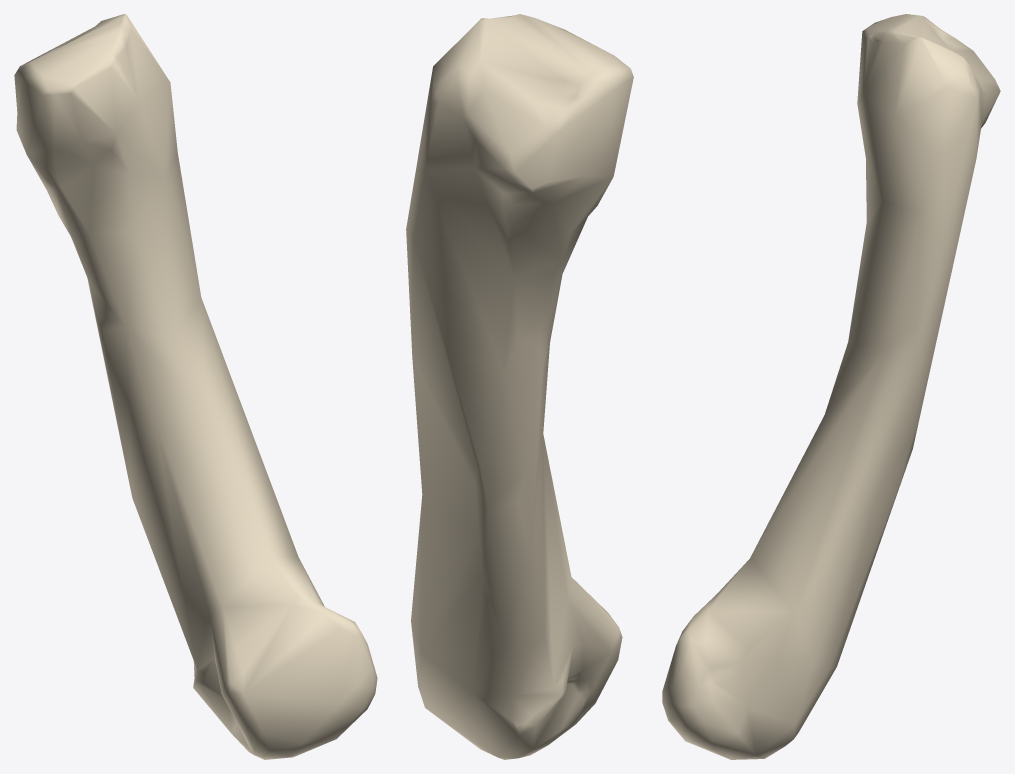
Rendered from fifth-metacarpal-bone-r.glb.
The picture shows the model from 3 angles, left to right: view 1: azimuth 30°, elevation 25°; view 2: azimuth 150°, elevation 25°; view 3: azimuth 270°, elevation 25°; orthographic projection. The views are drawn at different scales.
Visible parts, largest first — view 1: Fifth metacarpal bone.r; view 2: Fifth metacarpal bone.r; view 3: Fifth metacarpal bone.r.
Boxes of the visible parts, left/top/right/bottom form: Fifth metacarpal bone.r: left=14, top=14, right=377, bottom=759; Fifth metacarpal bone.r: left=406, top=14, right=633, bottom=759; Fifth metacarpal bone.r: left=662, top=14, right=1000, bottom=759.
Size of the model in its own units: 0.0209 by 0.057 by 0.0255.
